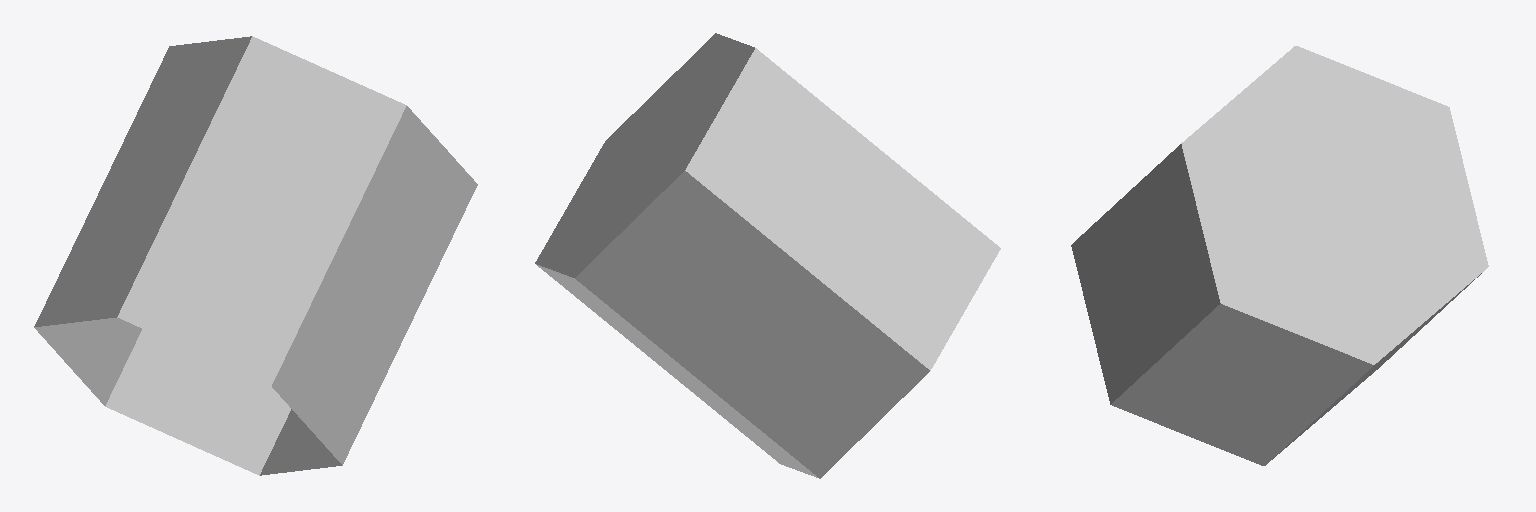
The picture shows the model from 3 angles: view 1: azimuth 30°, elevation 25°; view 2: azimuth 150°, elevation 25°; view 3: azimuth 270°, elevation 25°; orthographic projection.
Parts seen in each view (by area): view 1: Cy12; view 2: Cy12; view 3: Cy12.
Part boxes in pixels (x1,y1,x2,y2): Cy12: (34, 36, 477, 475); Cy12: (535, 33, 1000, 478); Cy12: (1071, 46, 1488, 465).
Bounding box in the file's own units: 10.42 × 11.02 × 9.8.